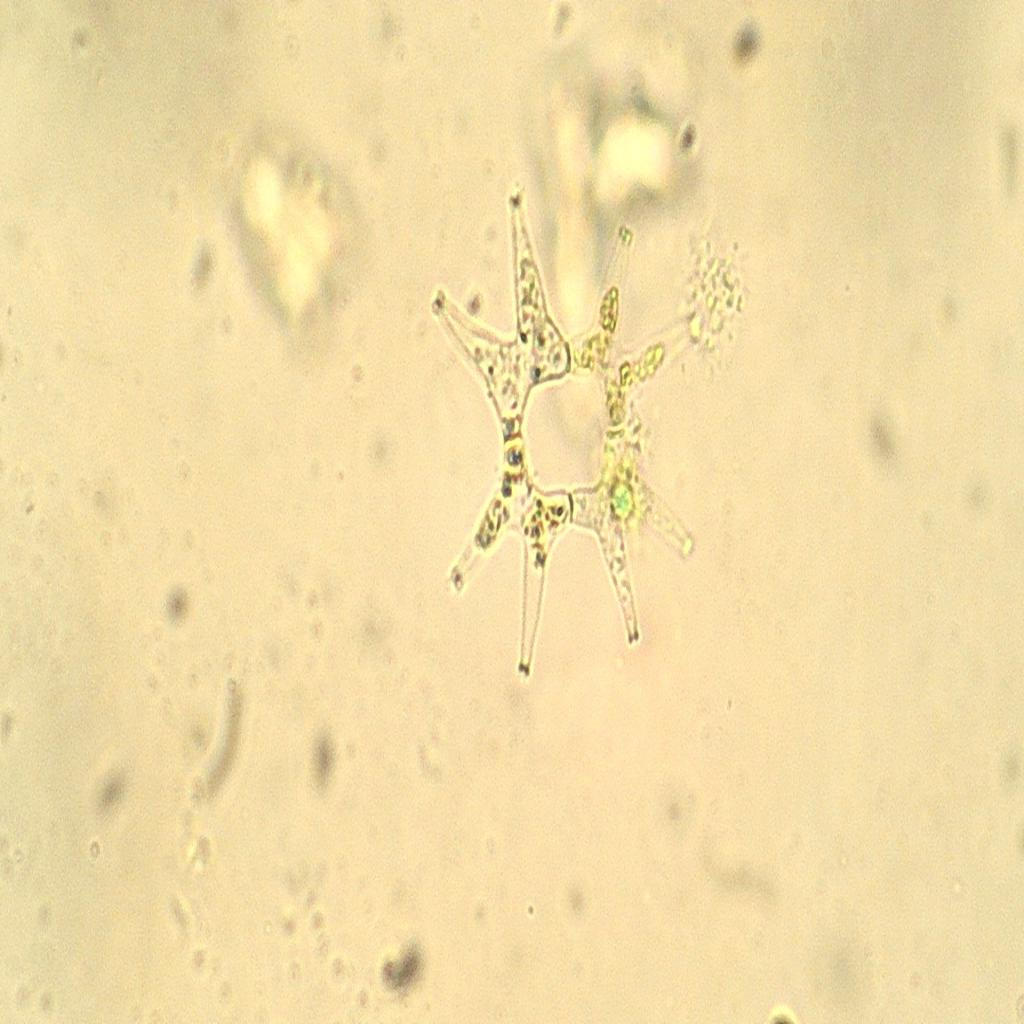Pediastrum_75TH: (404, 184, 726, 716)
